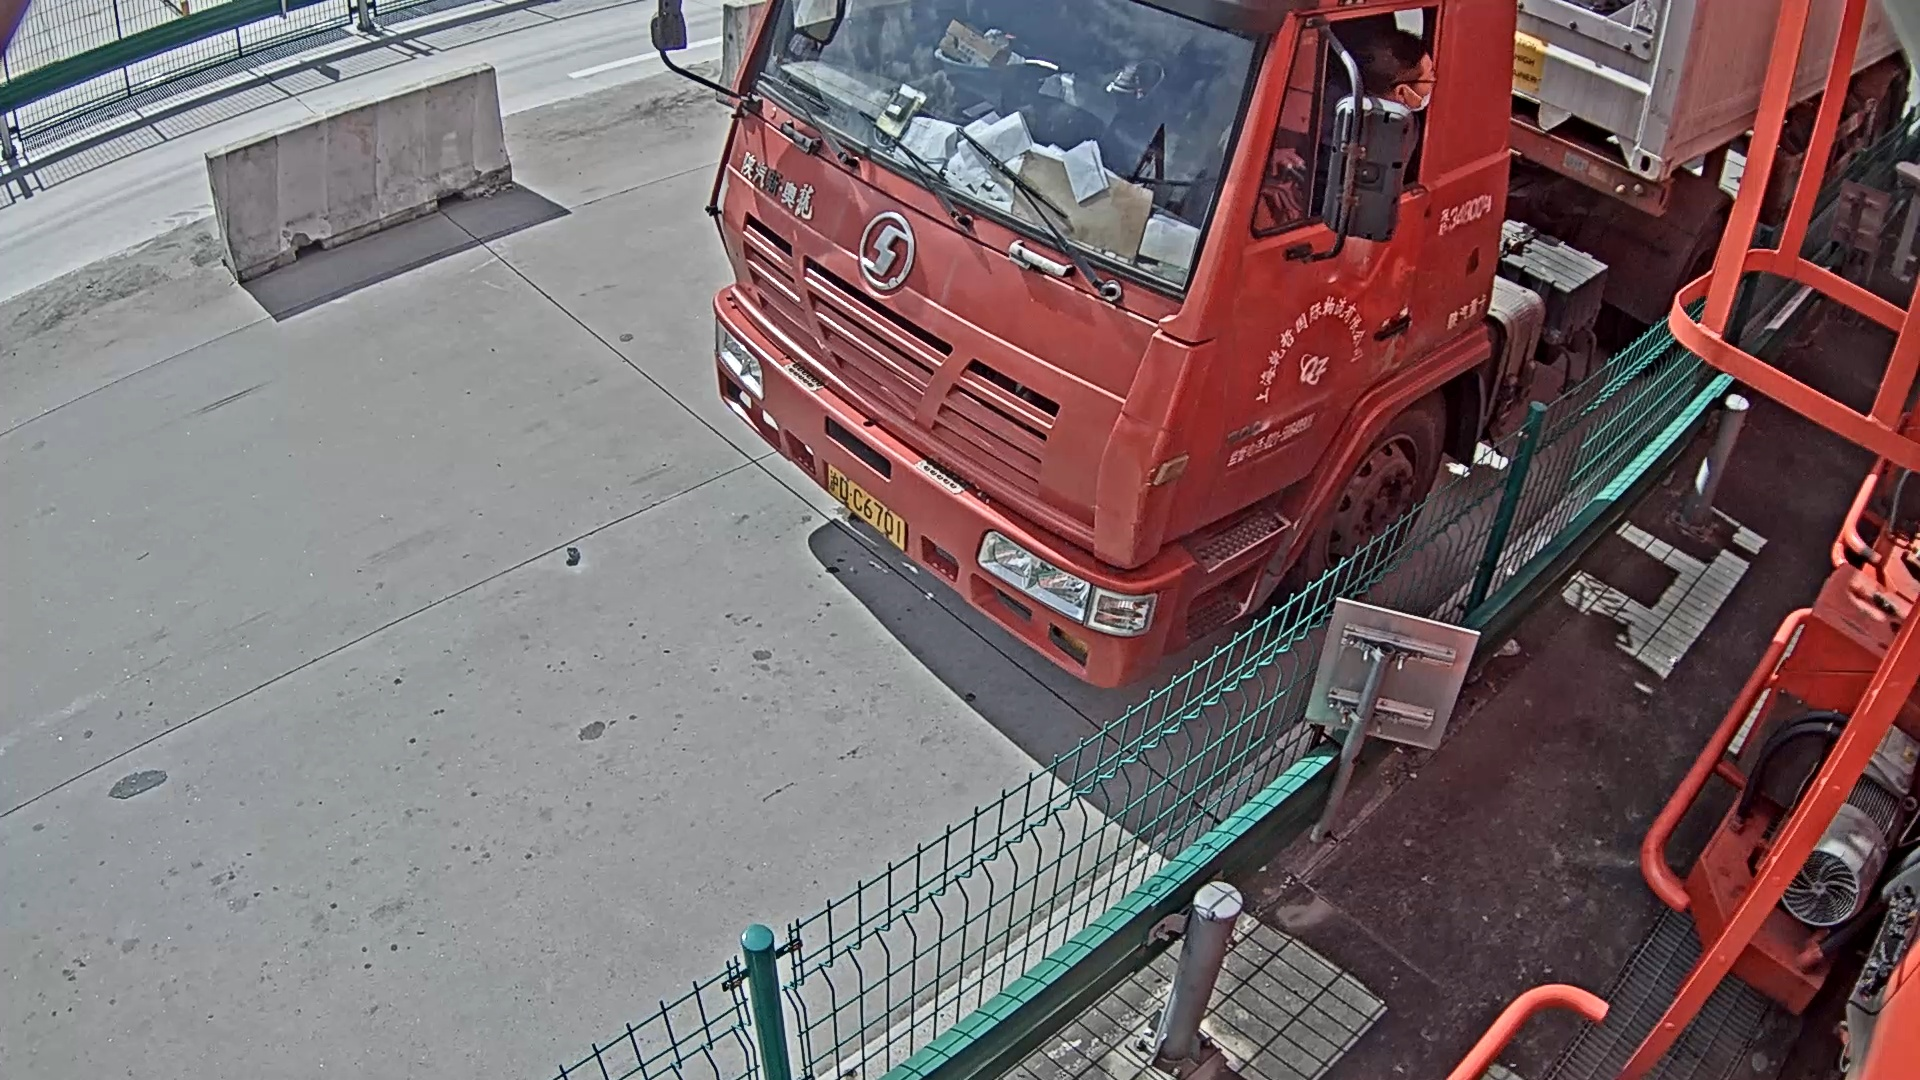head: (699, 1, 1521, 682)
plate: (825, 465, 912, 552)
